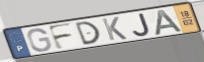A: (154, 8, 185, 36)
D: (74, 20, 103, 47)
F: (47, 22, 75, 51)
G: (26, 28, 54, 53)
J: (131, 12, 152, 38)
K: (100, 16, 129, 42)
